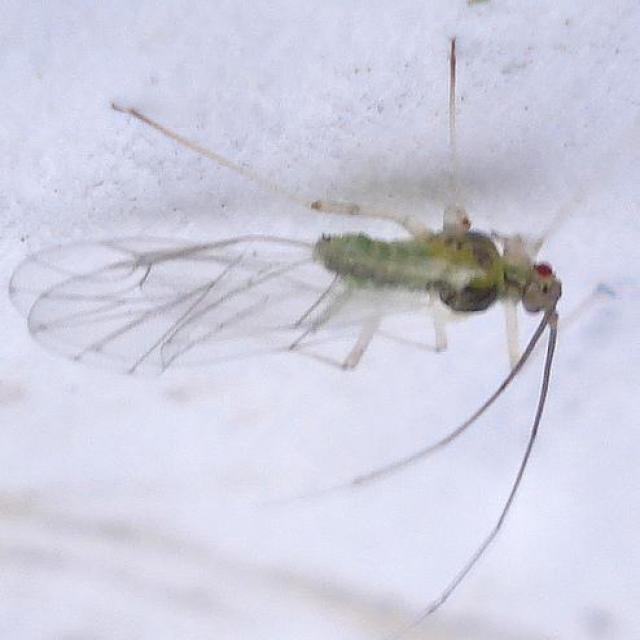aphid: (46, 184, 594, 476)
